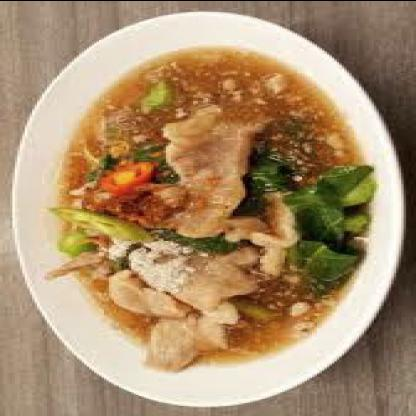Laadna: (37, 31, 399, 388)
